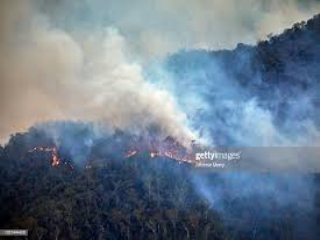fire: (129, 146, 197, 170), (27, 138, 69, 172)
smoke: (99, 53, 217, 147), (234, 90, 315, 146)
